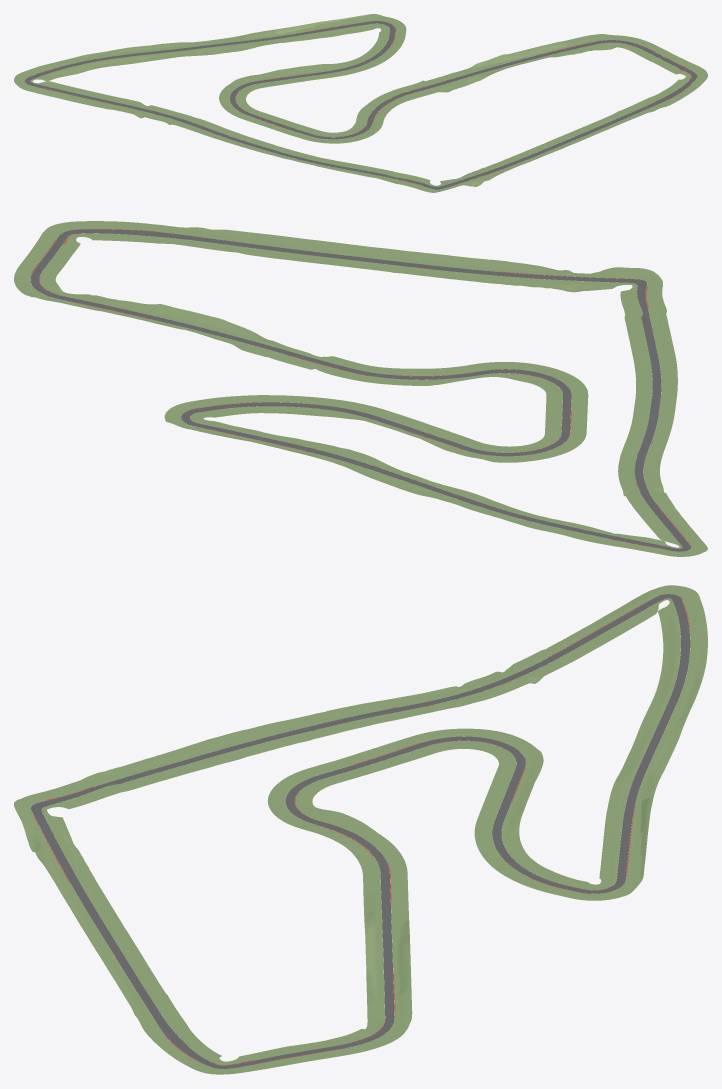
Rendered from road.glb.
3 renders of one model, top to bottom at view 1: azimuth 30°, elevation 25°; view 2: azimuth 150°, elevation 25°; view 3: azimuth 270°, elevation 25°, orthographic. The views are drawn at different scales.
Parts seen in each view (by area): view 1: road_7_6, road_6_6, road_6_5, road_9_5, road_5_6, road_5_7, road_7_5, road_8_5, road_6_4, road_8_4, road_6_7, road_7_4 (+5 smaller); view 2: road_7_6, road_6_5, road_8_4, road_6_4, road_6_6, road_7_4, road_9_5, road_7_5, road_8_5, road_5_6, road_9_4, road_5_7 (+3 smaller); view 3: road_7_6, road_6_5, road_6_6, road_6_4, road_5_6, road_9_5, road_7_5, road_7_4, road_5_7, road_8_5, road_8_4, road_5_5 (+3 smaller).
Part boxes in pixels (x1,y1,x2,y2): road_7_6: (277,14,406,78); road_6_6: (188,35,325,115); road_6_5: (235,109,381,162); road_9_5: (564,34,704,76); road_5_6: (59,84,209,128); road_5_7: (40,45,166,84); road_7_5: (361,72,469,126); road_8_5: (456,41,577,84); road_6_4: (302,159,461,192); road_8_4: (542,104,646,151); road_6_7: (152,29,277,58); road_7_4: (449,144,554,186); road_7_6: (164,395,398,457); road_6_5: (459,362,677,440); road_8_4: (201,229,417,272); road_6_4: (592,267,677,370); road_6_6: (323,414,583,490); road_7_4: (396,252,611,292); road_9_5: (14,227,112,309); road_7_5: (263,345,483,385); road_8_5: (93,299,282,356); road_5_6: (618,450,687,535); road_9_4: (49,221,222,247); road_5_7: (469,499,660,548); road_7_6: (474,800,642,899); road_6_5: (222,729,433,827); road_6_6: (431,728,643,814); road_6_4: (14,736,224,831); road_5_6: (431,619,642,711); road_9_5: (222,991,412,1074); road_7_5: (296,822,408,914); road_7_4: (23,824,122,925); road_5_7: (641,610,707,710); road_8_5: (364,909,411,996); road_8_4: (77,920,177,1012); road_5_5: (247,691,433,734).
Size of the model in its own units: 1304 by 67.82 by 850.
